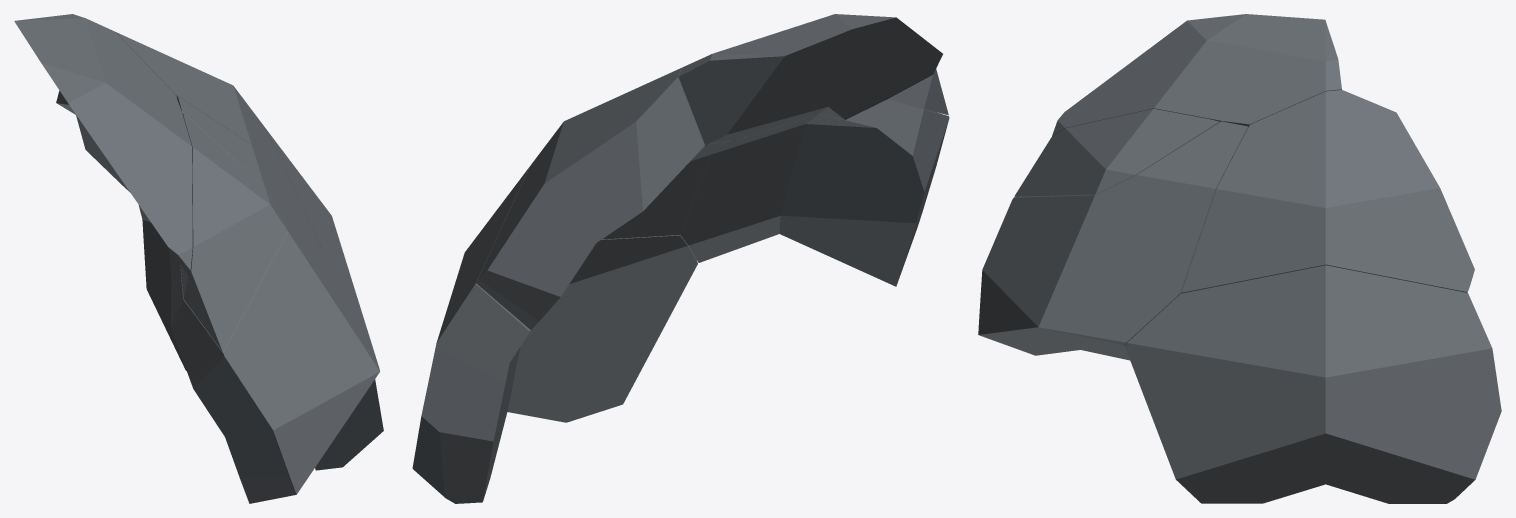
The model's file is Sphere_Fracture_06.DAE.
The picture shows the model from 3 angles, left to right: view 1: azimuth 30°, elevation 25°; view 2: azimuth 150°, elevation 25°; view 3: azimuth 270°, elevation 25°; orthographic projection. The views are drawn at different scales.
Visible parts, largest first — view 1: Sphere_Fracture_06; view 2: Sphere_Fracture_06; view 3: Sphere_Fracture_06.
Part boxes in pixels (left/top/right/bottom): Sphere_Fracture_06: left=14, top=14, right=383, bottom=503; Sphere_Fracture_06: left=412, top=14, right=949, bottom=503; Sphere_Fracture_06: left=978, top=14, right=1501, bottom=503.
Bounding box in the file's own units: 0.9319 × 1.13 × 1.41.
2 materials, 2 textured.
